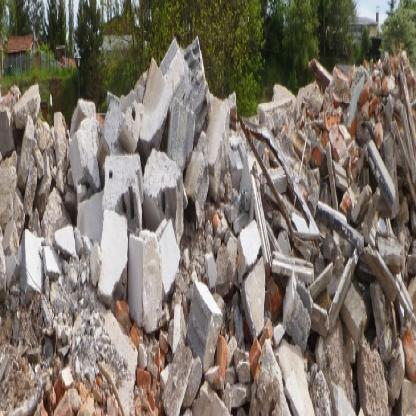brick: (1, 34, 415, 411)
